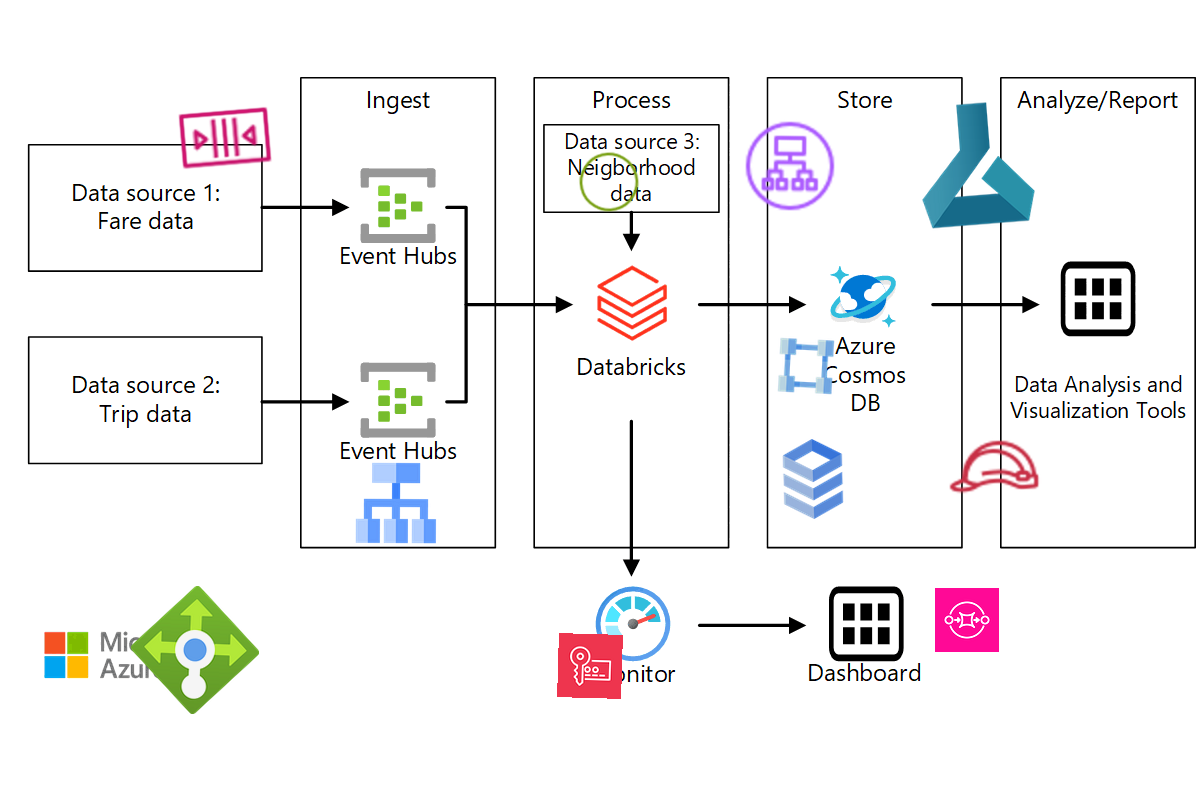aws_amazon_simple_queue_service: (934, 587, 1000, 653)
aws_elastic_load_balancing_application_load_balancer: (741, 117, 839, 215)
aws_identity_access_management_role: (945, 418, 1043, 516)
aws_key_management_service: (557, 633, 623, 699)
aws_simple_queue_service_queue: (173, 85, 277, 189)
aws_simple_storage_service_object: (575, 148, 643, 216)
azure_load_balancers: (128, 583, 262, 717)
azure_machine_learning: (907, 95, 1045, 233)
gcp_cloud_load_balancing: (347, 454, 445, 552)
gcp_cloud_sql: (763, 429, 863, 529)
gcp_virtual_private_cloud: (772, 332, 840, 400)
